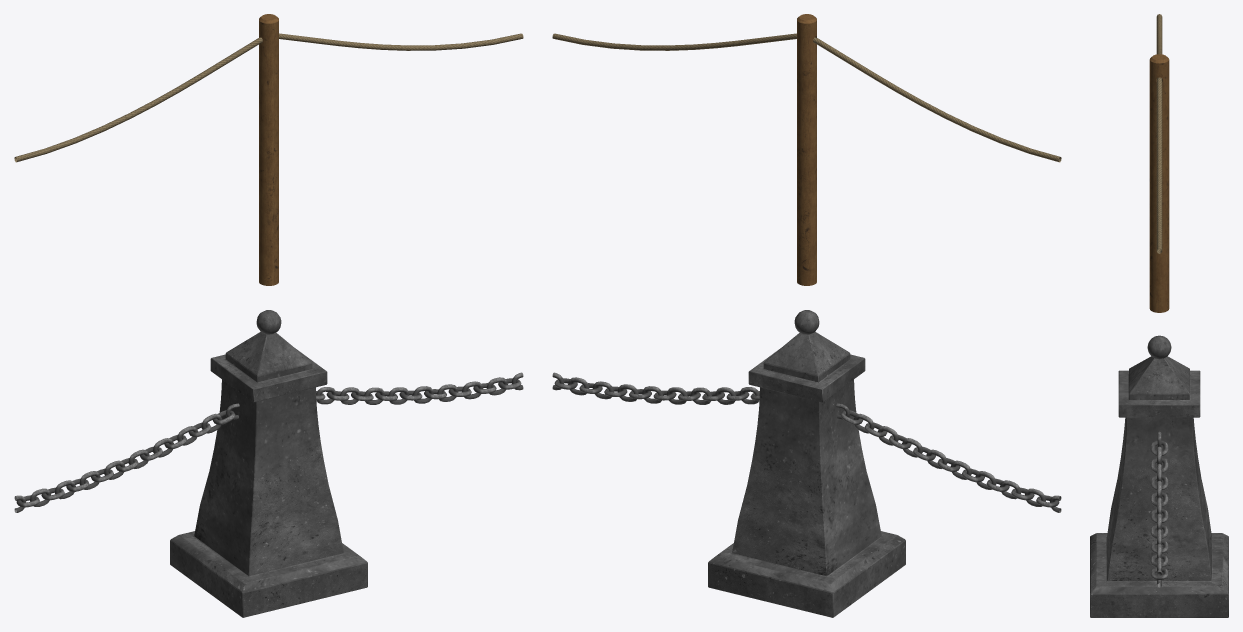
Rendered from Rope_And_Chain_Fence_001.fbx.
The picture shows the model from 3 angles, left to right: view 1: azimuth 30°, elevation 25°; view 2: azimuth 150°, elevation 25°; view 3: azimuth 270°, elevation 25°; orthographic projection. The views are drawn at different scales.
Visible parts, largest first — view 1: Chain_Fence_001, Rope_Fence_001; view 2: Chain_Fence_001, Rope_Fence_001; view 3: Chain_Fence_001, Rope_Fence_001.
Part boxes in pixels (x1,y1,x2,y2): Chain_Fence_001: (14, 310, 523, 617); Rope_Fence_001: (14, 14, 523, 285); Chain_Fence_001: (552, 310, 1061, 617); Rope_Fence_001: (552, 14, 1061, 285); Chain_Fence_001: (1090, 335, 1228, 617); Rope_Fence_001: (1149, 14, 1169, 312).
Size of the model in its own units: 200 by 211 by 50.
